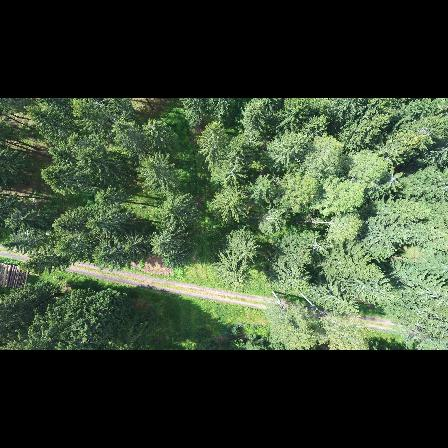Sick: (309, 235, 331, 255), (386, 168, 404, 191)
